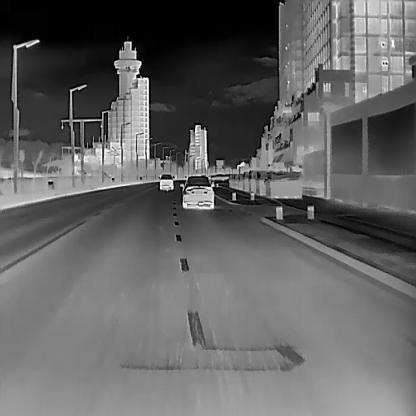car: (179, 174, 214, 210), (158, 173, 173, 189)
